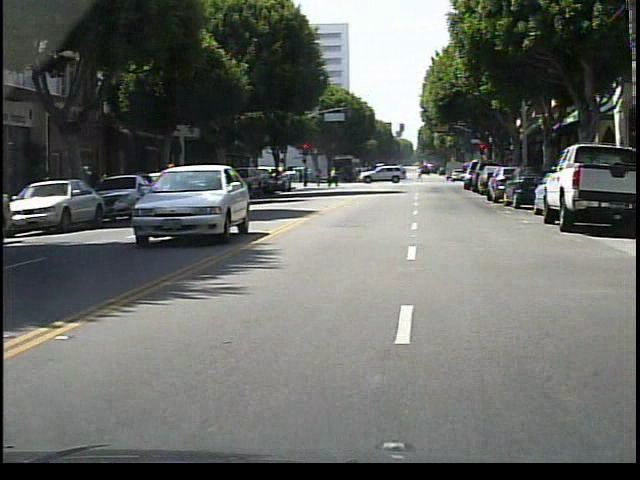person: (326, 163, 346, 192)
